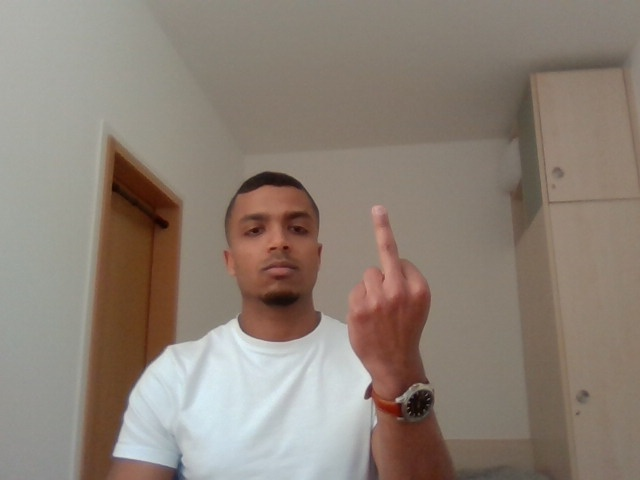fuckyou: (332, 192, 465, 381)
